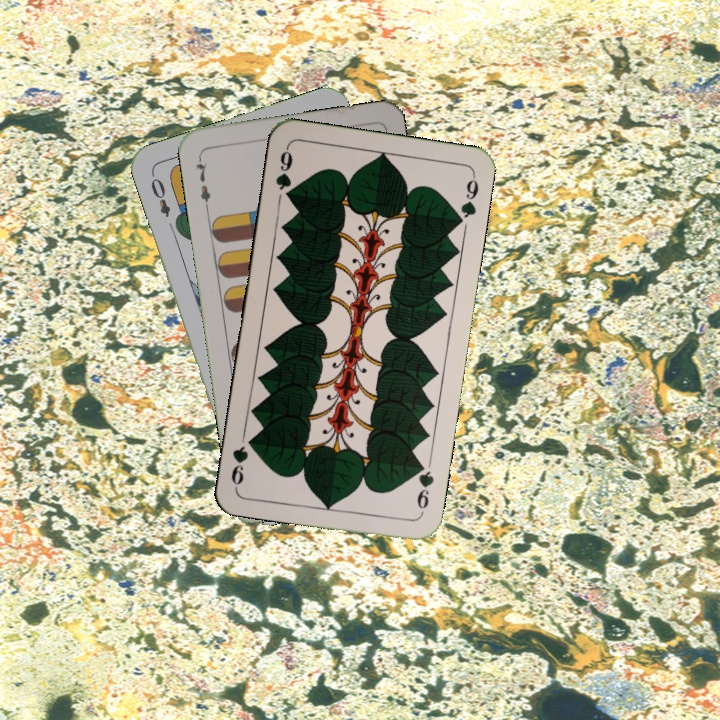E7: (191, 152, 213, 211)
EO: (146, 169, 173, 220)
G9: (271, 143, 296, 204), (413, 457, 437, 517)
